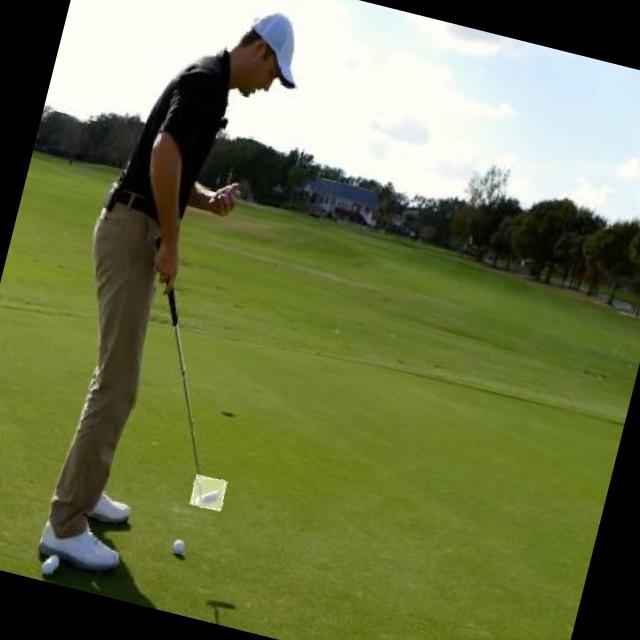club head: (189, 474, 227, 512)
